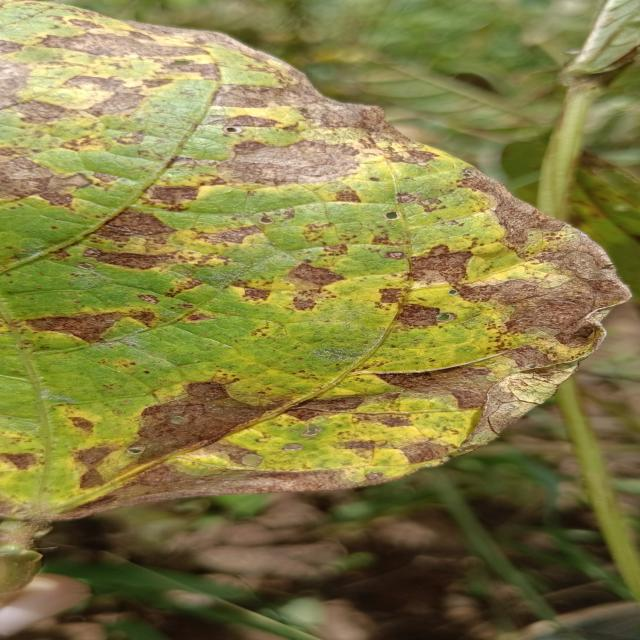Black gram_leaf spot: (0, 0, 628, 592)
